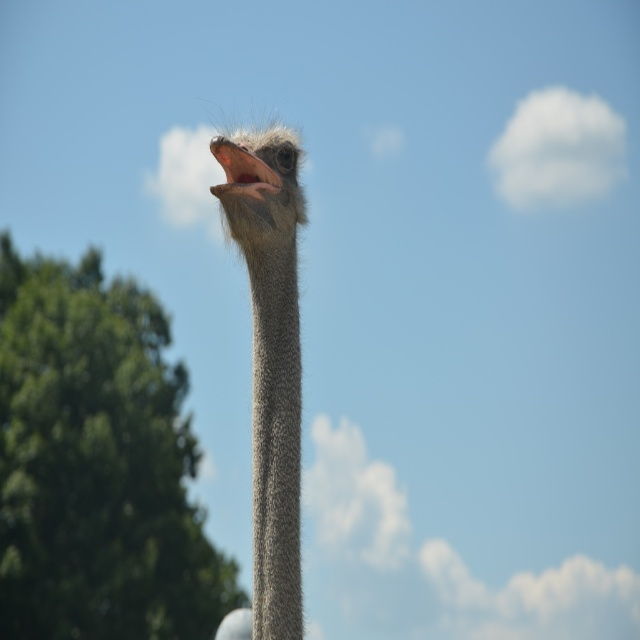Ostrich: (204, 117, 308, 637)
